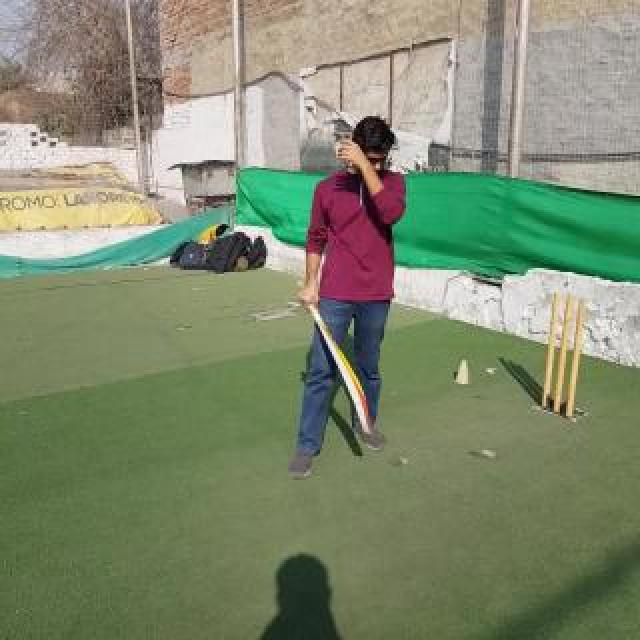bat: (298, 280, 374, 438)
